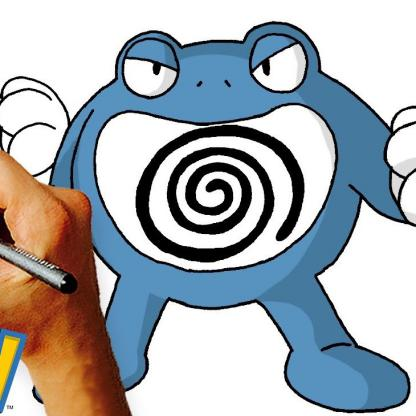Poliwrath: (32, 19, 416, 411)
